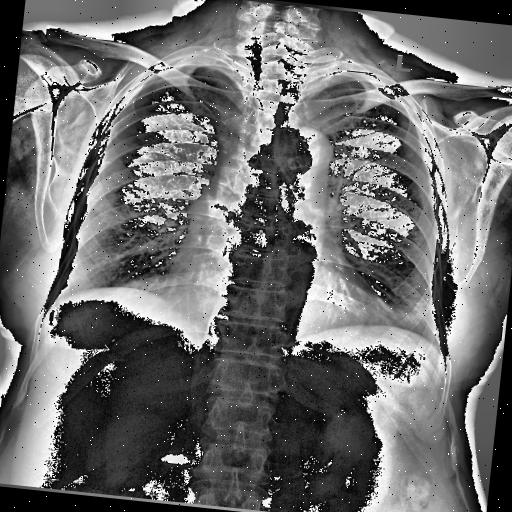0- Aortic enlargement: (268, 124, 338, 187), (278, 125, 336, 172), (283, 125, 336, 176)
11- Pleural thickening: (153, 50, 250, 90), (364, 74, 406, 104)
3- Cardiomegaly: (160, 254, 395, 346), (144, 264, 396, 346)
